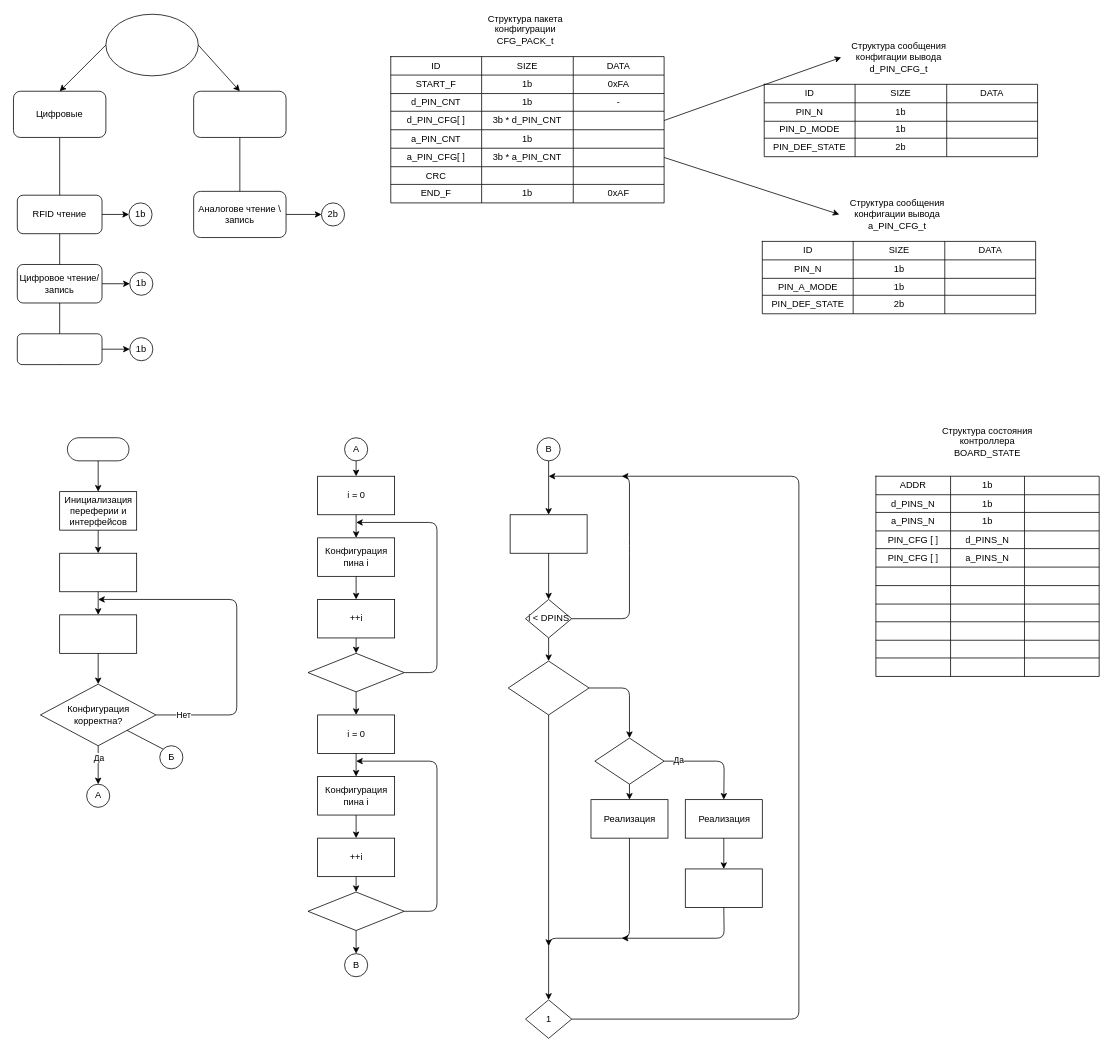
The diagram is 1113 pixels wide and 1052 high, and some of its shapes have lost their labels. The shapes that lost their labels are listed below. From the top down, each one's centre as x and y in pixels, then its label:
the point at 151,44: Типвы выводов
the point at 239,113: Аналогвые
the point at 59,349: PWM
the point at 98,449: Начало
the point at 548,533: Реализация функций i пина
the point at 98,572: Чтение адреса
the point at 98,633: Прием конфигурации
the point at 355,672: i < d_PINS_CNT
the point at 548,687: Есть команда
the point at 629,760: Нужен ответ?
the point at 723,887: Ответить
the point at 355,911: i < a_PINS_CNT
